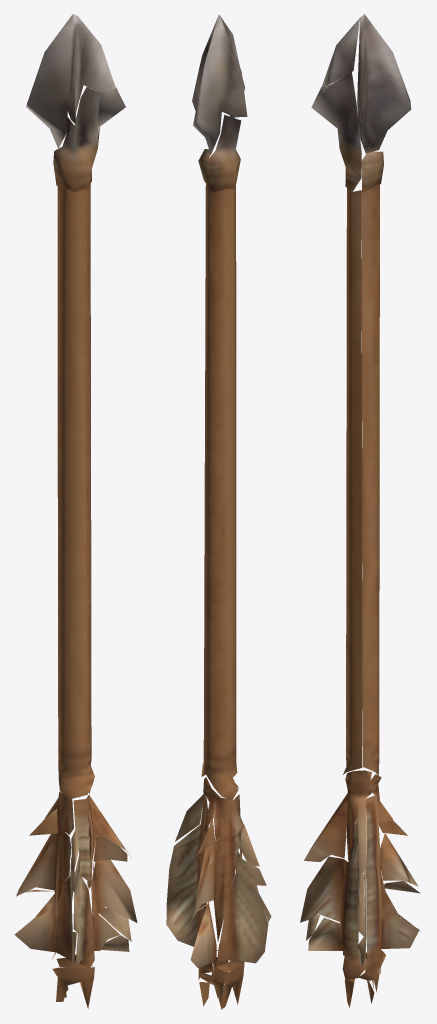
The model's file is arrow.glb.
3 renders of one model, left to right at view 1: azimuth 90°, elevation 25°; view 2: azimuth 150°, elevation 25°; view 3: azimuth 270°, elevation 25°, orthographic.
Visible parts, largest first — view 1: arrow; view 2: arrow; view 3: arrow.
Boxes of the visible parts, x1,y1,x2,y2 form: arrow: (14,14,137,1008); arrow: (166,14,271,1009); arrow: (300,14,421,1007).
Size of the model in its own units: 0.0846 by 0.7836 by 0.0882.
1 material, 1 textured.
